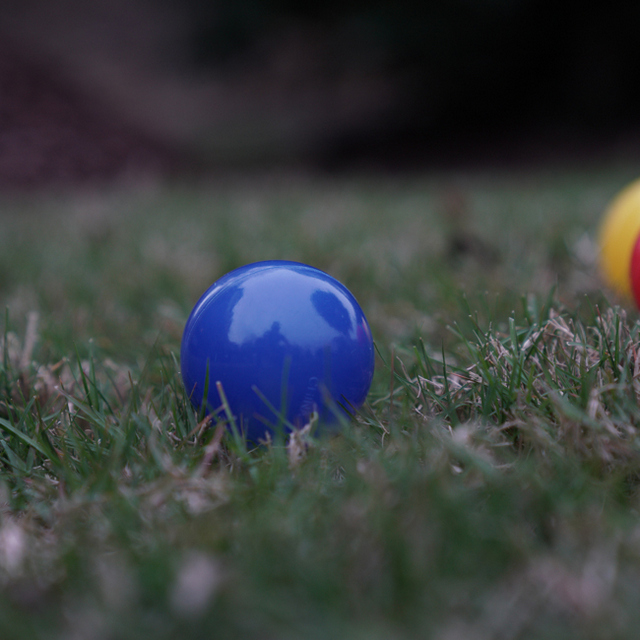Ball: (180, 260, 374, 437)
